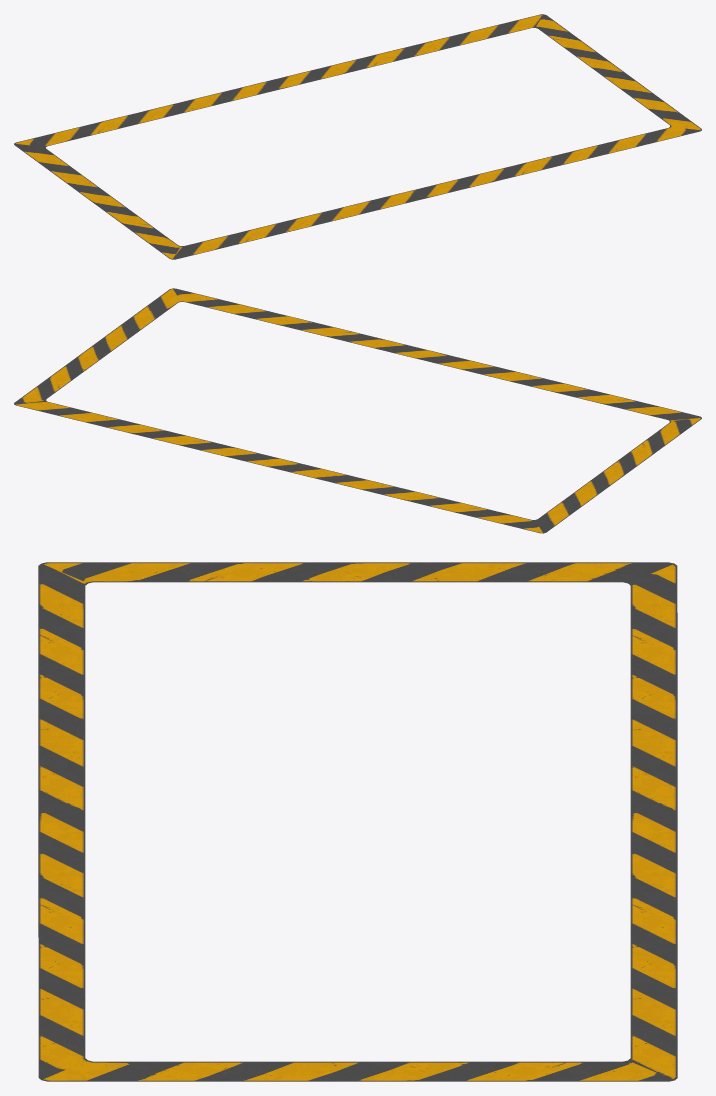
Rendered from SM_FloorDecal_RecWarn2x4.FBX.
3 views of the same model, one above another, from view 1: azimuth 30°, elevation 25°; view 2: azimuth 150°, elevation 25°; view 3: azimuth 270°, elevation 25° (orthographic). The views are drawn at different scales.
Parts seen in each view (by area): view 1: SM_FloorDecal_RecWarn2x4; view 2: SM_FloorDecal_RecWarn2x4; view 3: SM_FloorDecal_RecWarn2x4.
Part boxes in pixels (left/top/right/bottom): SM_FloorDecal_RecWarn2x4: left=14, top=14, right=701, bottom=259; SM_FloorDecal_RecWarn2x4: left=14, top=288, right=701, bottom=533; SM_FloorDecal_RecWarn2x4: left=38, top=562, right=677, bottom=1081.
Size of the model in its own units: 414 by 215 by 0.
